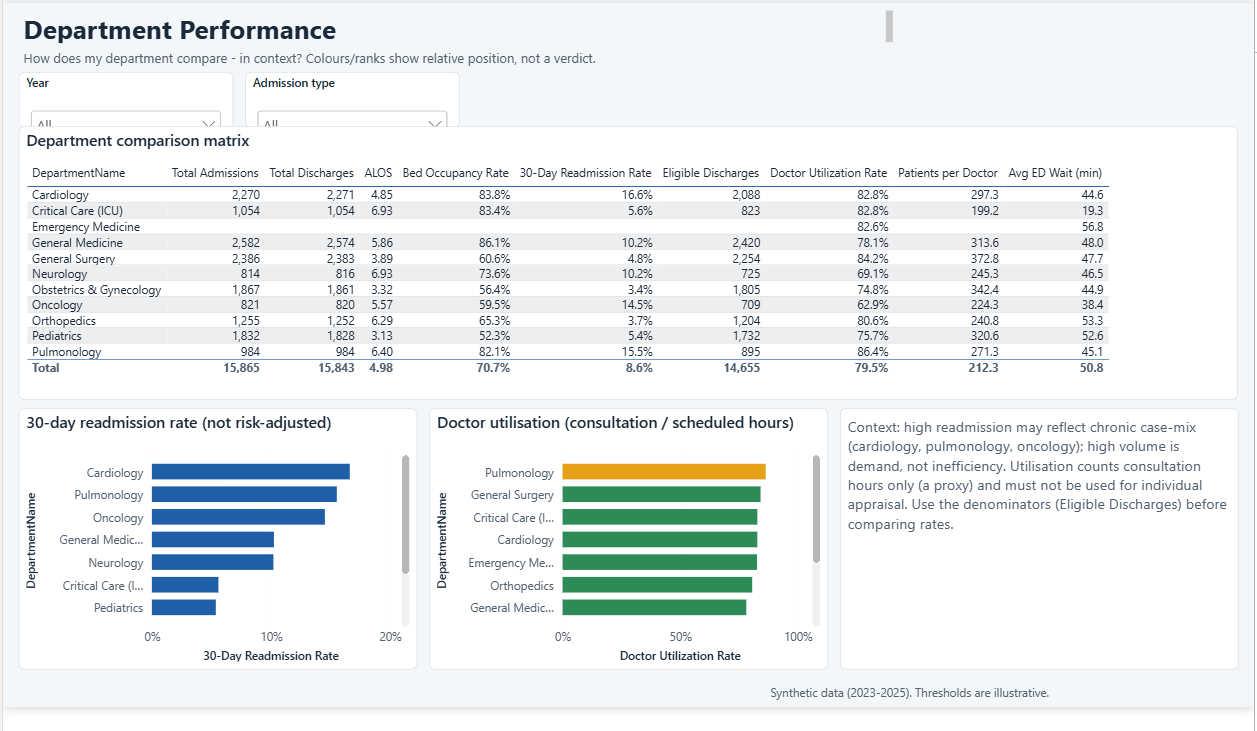

The page's visual inventory and layout, read from the dashboard file:
{"tool":"powerbi","page":{"name":"Department Performance","canvas":[1280,720],"ordinal":3},"visuals":[{"type":"textbox","box":[16,2,900,44],"z":100},{"type":"textbox","box":[16,42,1240,30],"z":200},{"type":"textbox","box":[780,690,484,30],"z":300},{"type":"slicer","title":"Year","fields":{"Values":["DimDate.Year"]},"box":[16,70,220,58],"z":400},{"type":"slicer","title":"Admission type","fields":{"Values":["FactAdmissions.AdmissionType"]},"box":[248,70,220,58],"z":500},{"type":"tableEx","title":"Department comparison matrix","fields":{"Values":["DimDepartments.DepartmentName","_Measures.Total Admissions","_Measures.Total Discharges","_Measures.ALOS","_Measures.Bed Occupancy Rate","_Measures.30-Day Readmission Rate","_Measures.Eligible Discharges","_Measures.Doctor Utilization Rate","_Measures.Patients per Doctor","_Measures.Avg ED Wait (min)"]},"box":[16,126,1248,280],"z":600},{"type":"clusteredBarChart","title":"30-day readmission rate (not risk-adjusted)","fields":{"Category":["DimDepartments.DepartmentName"],"Y":["_Measures.30-Day Readmission Rate"]},"box":[16,414,408,268],"z":700},{"type":"clusteredBarChart","title":"Doctor utilisation (consultation / scheduled hours)","fields":{"Category":["DimDepartments.DepartmentName"],"Y":["_Measures.Doctor Utilization Rate"]},"box":[436,414,408,268],"z":800},{"type":"textbox","box":[856,414,408,268],"z":900}]}

Visuals, with their boxes on the page's 1280x720 design canvas (x1, y1, x2, y2). These are canvas units, not pixel positions in the 1257x731 screenshot, which may show the page scaled, cropped or inside an application window:
textbox: bbox(16, 2, 916, 46)
textbox: bbox(16, 42, 1256, 72)
textbox: bbox(780, 690, 1264, 720)
"Year" slicer: bbox(16, 70, 236, 128)
"Admission type" slicer: bbox(248, 70, 468, 128)
"Department comparison matrix" tableEx: bbox(16, 126, 1264, 406)
"30-day readmission rate (not risk-adjusted)" clusteredBarChart: bbox(16, 414, 424, 682)
"Doctor utilisation (consultation / scheduled hours)" clusteredBarChart: bbox(436, 414, 844, 682)
textbox: bbox(856, 414, 1264, 682)
